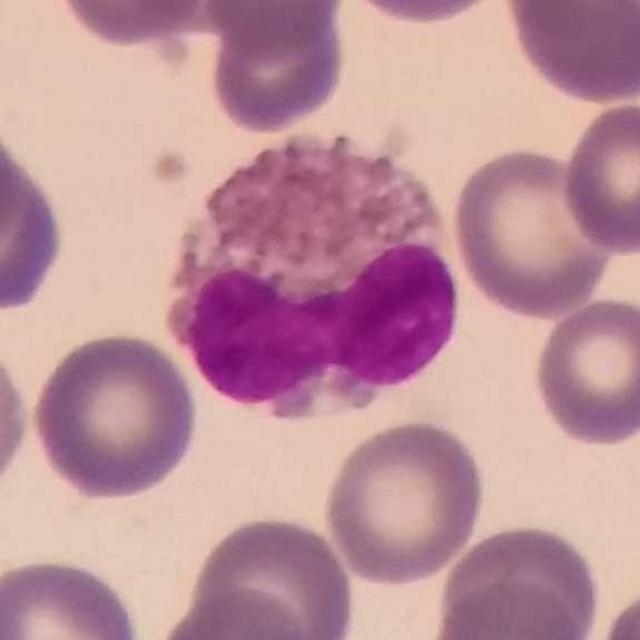eosino: (168, 130, 464, 414)
